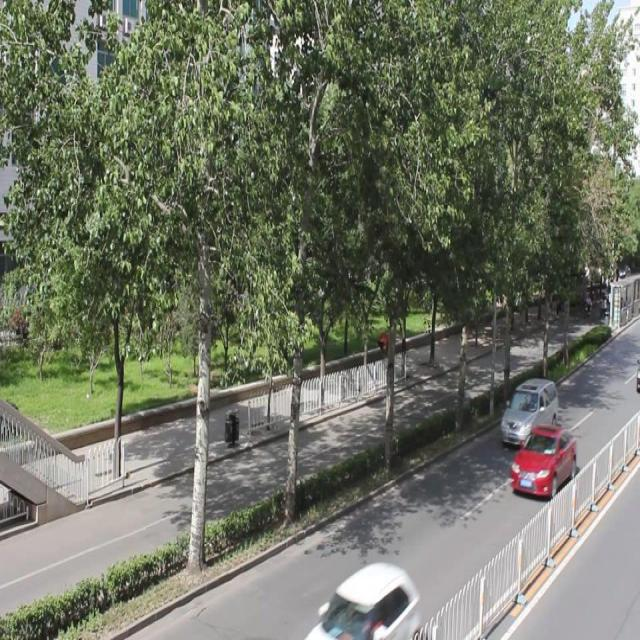car: (304, 563, 419, 640), (508, 424, 575, 497), (498, 377, 556, 446)
